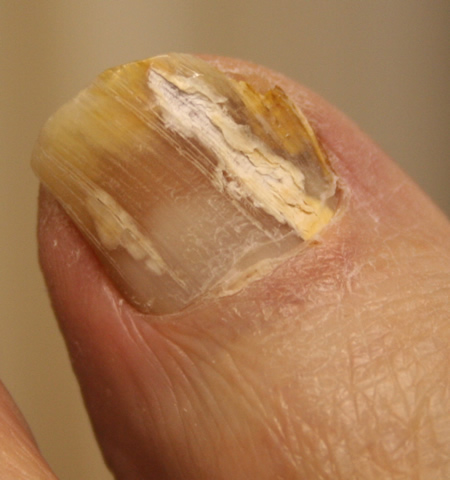Nail Fungal Infection: (76, 70, 339, 240)
